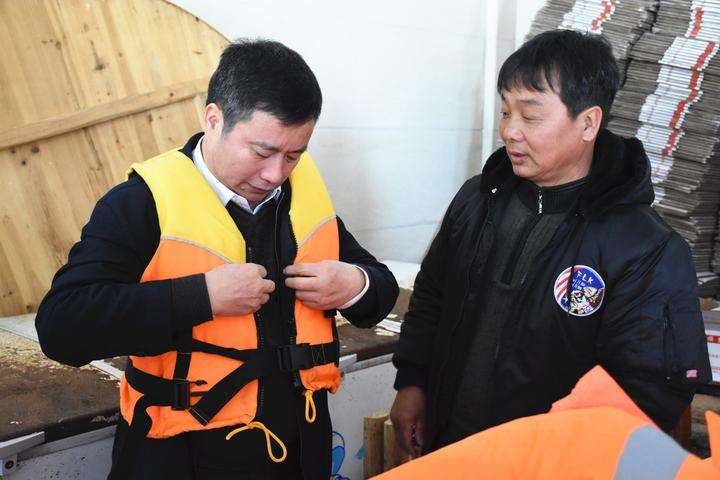other_clothes: (402, 129, 694, 437)
reflective_clothes: (98, 127, 347, 441)
